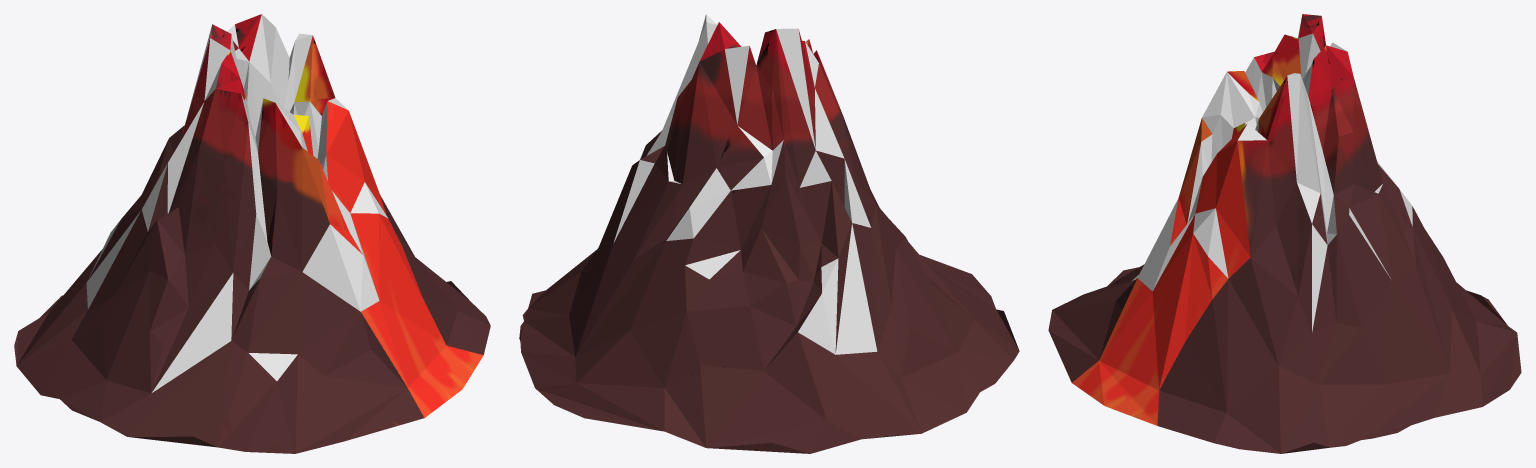
The model's file is volcano 2.glb.
3 views of the same model, side by side, from view 1: azimuth 30°, elevation 25°; view 2: azimuth 150°, elevation 25°; view 3: azimuth 270°, elevation 25° (orthographic). The views are drawn at different scales.
Visible parts, largest first — view 1: Landscape; view 2: Landscape; view 3: Landscape.
Part boxes in pixels (x1,y1,x2,y2): Landscape: (14, 14, 490, 453); Landscape: (519, 14, 1019, 453); Landscape: (1048, 14, 1521, 453).
Bounding box in the file's own units: 346 × 259 × 341.
Materials: 1 (1 with a texture image).
